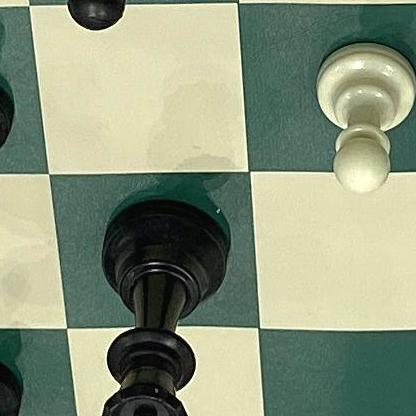black-pawn: (52, 0, 172, 37)
black-queen: (87, 190, 233, 416)
white-pawn: (315, 36, 416, 200)
